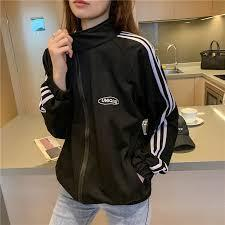sweater: (40, 27, 178, 201)
